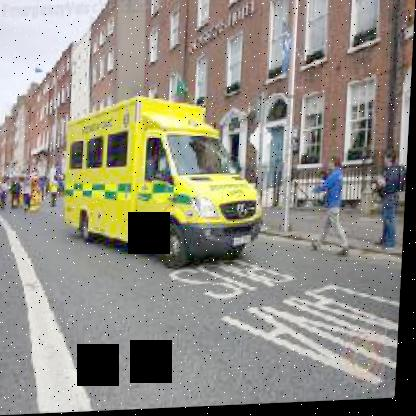emergency: (57, 91, 274, 276)
